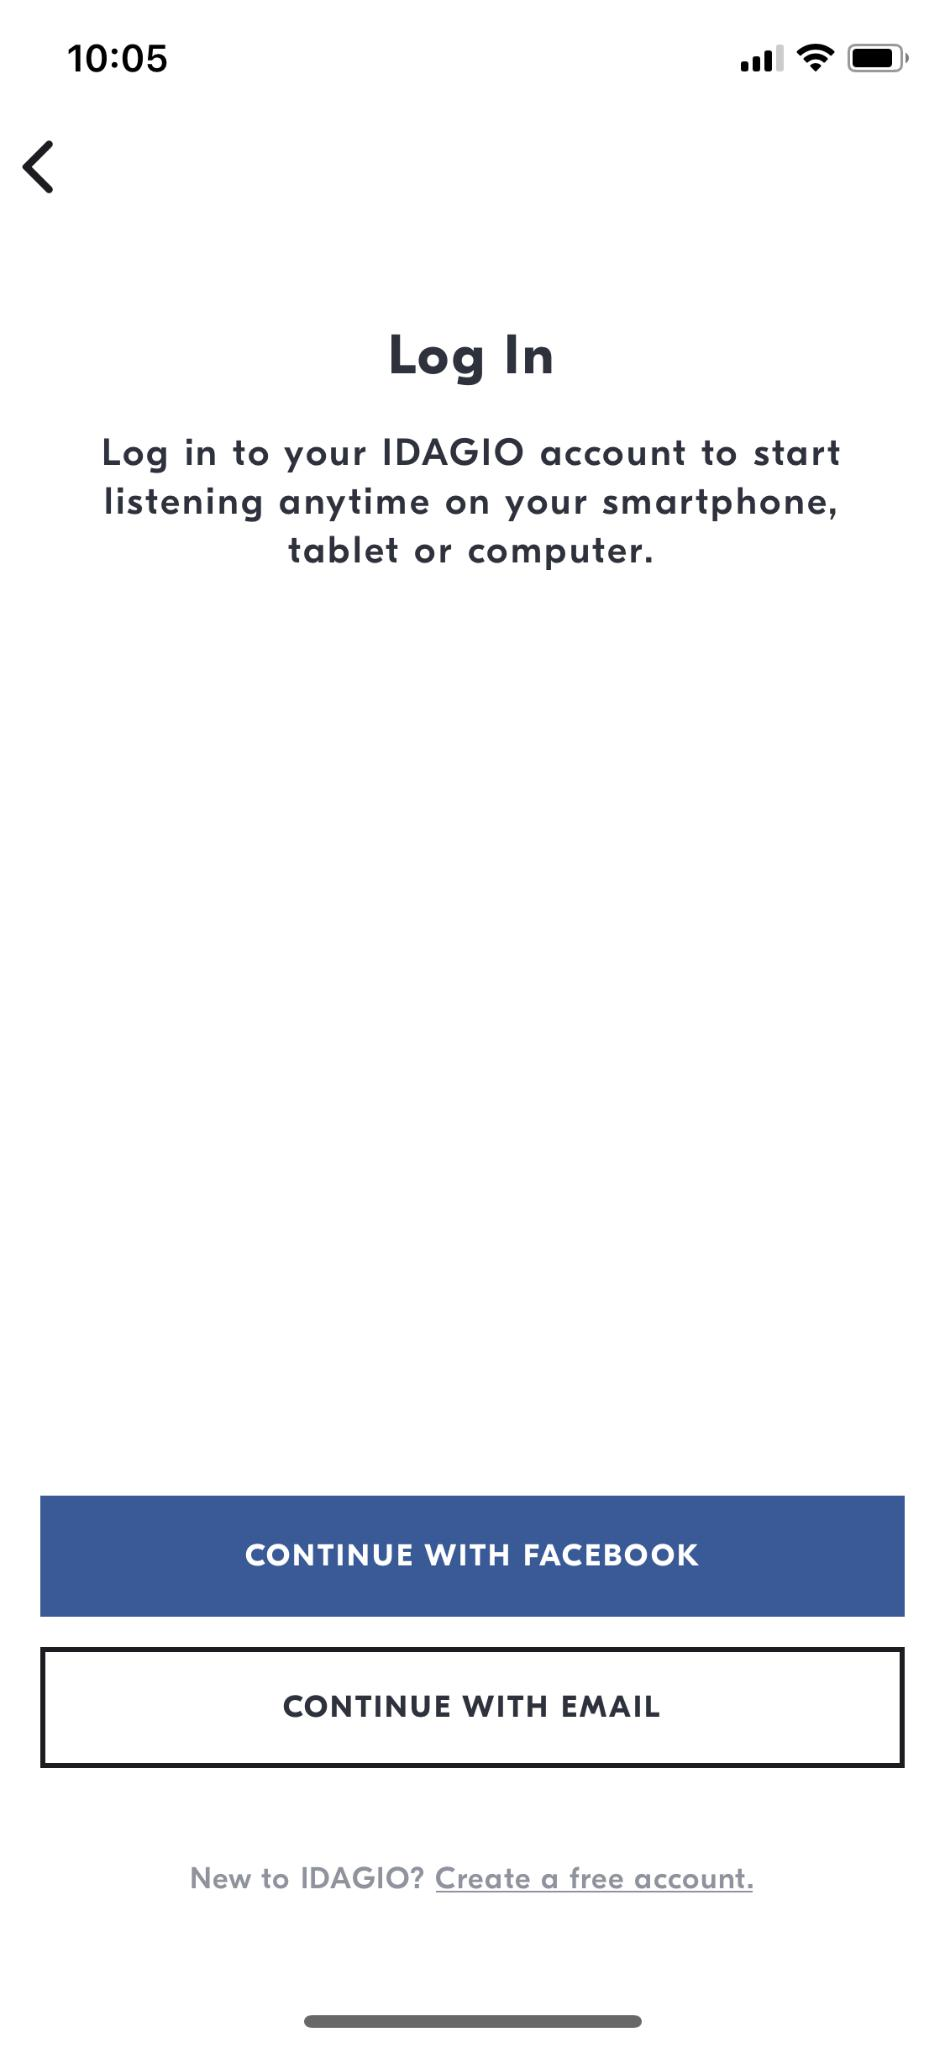Buttons: (39, 1496, 907, 1620), (43, 1652, 905, 1767), (16, 128, 70, 206)
